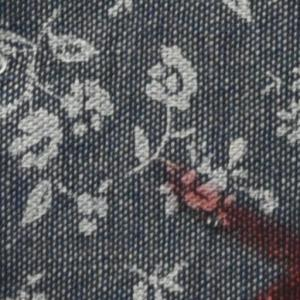Damage: (1, 28, 90, 78)
Stain: (148, 154, 300, 300)
